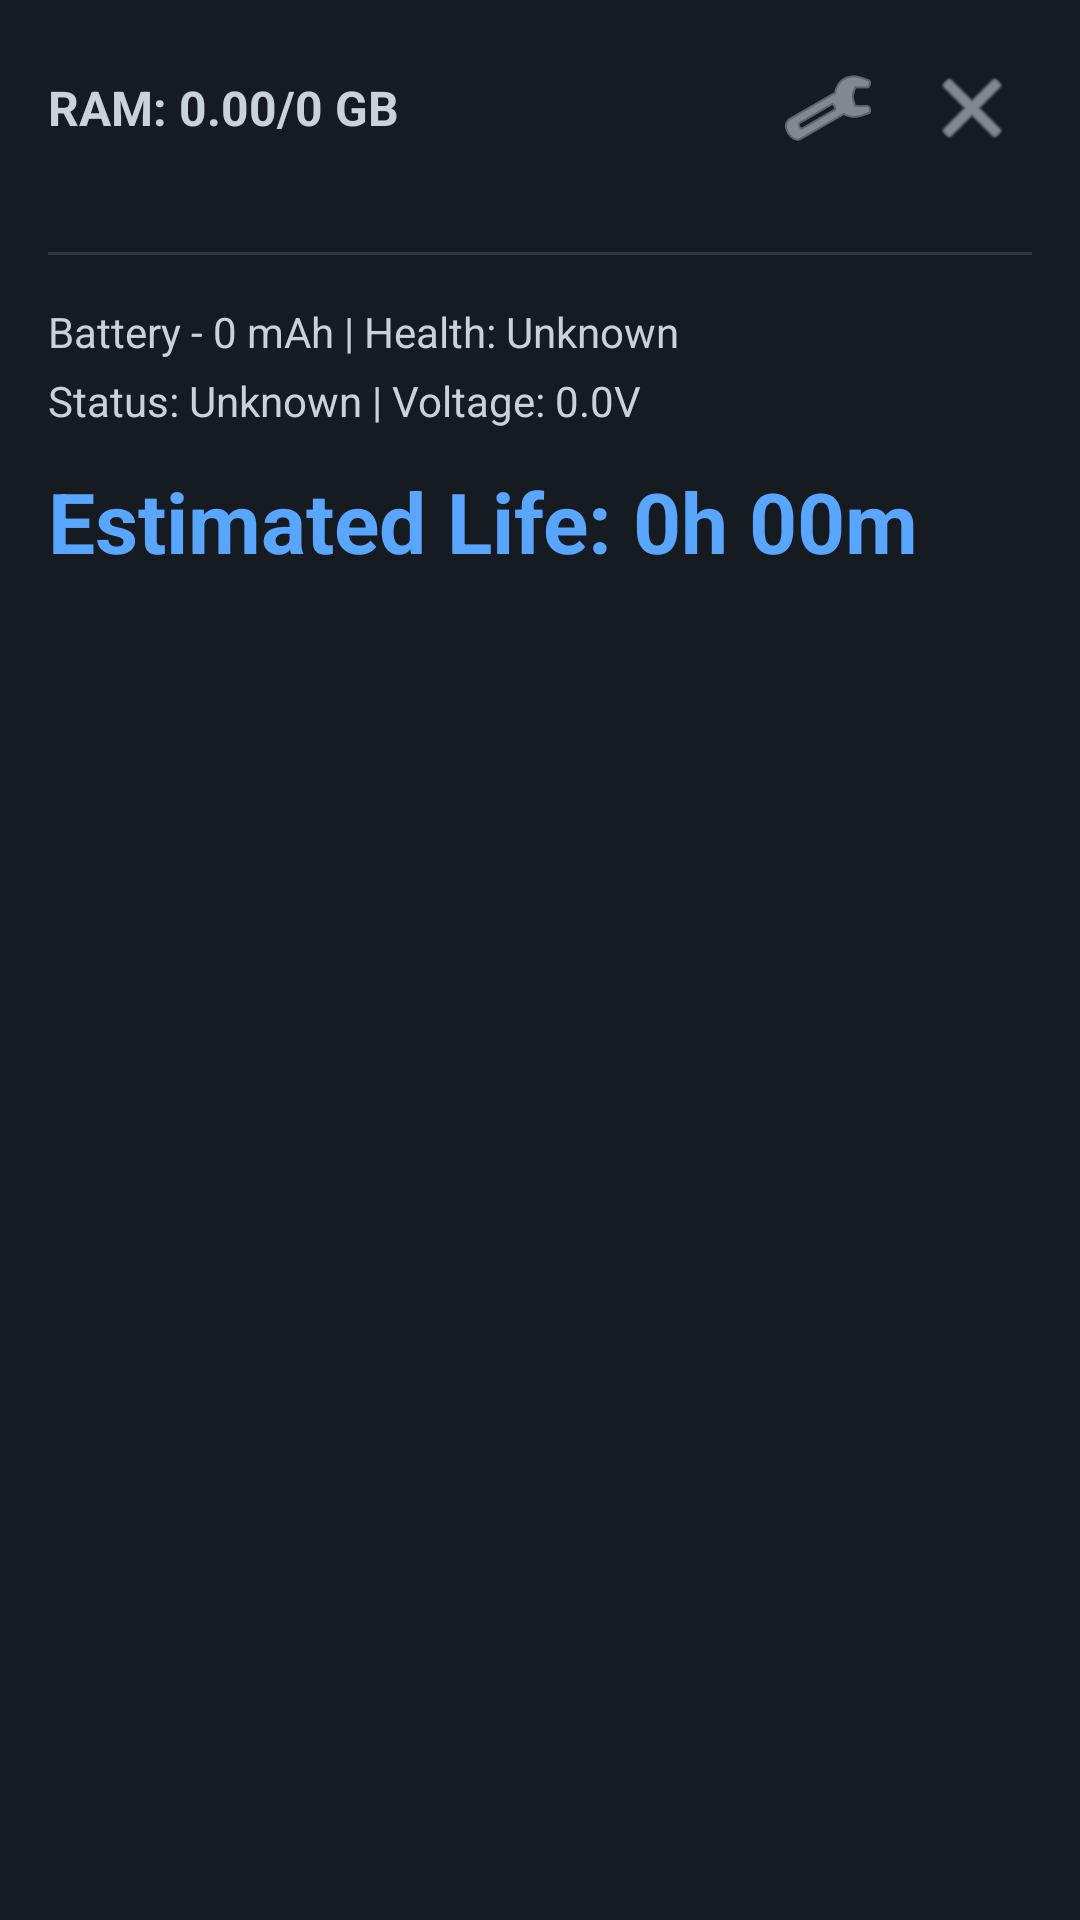

Locate icon controls on the screen. Image size 1080*1920, boxes as (x1, y1, x2, y2).
Close: (942, 78, 1002, 138)
Settings: (785, 75, 871, 141)
